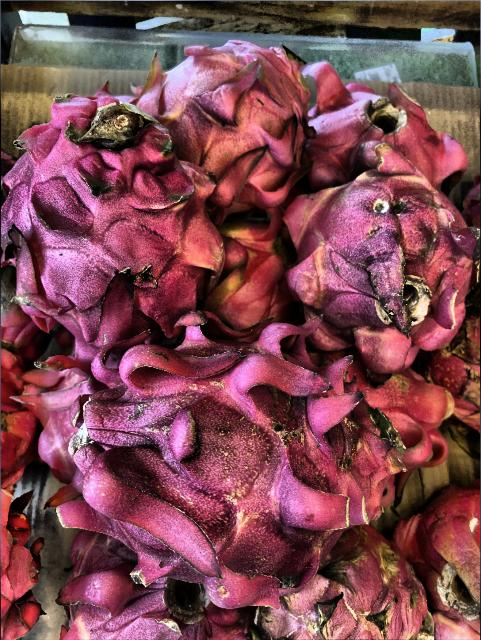buah-naga-matang: (65, 330, 401, 588), (11, 93, 229, 350), (279, 165, 481, 363), (128, 30, 306, 214), (304, 45, 476, 209), (58, 526, 250, 640)
